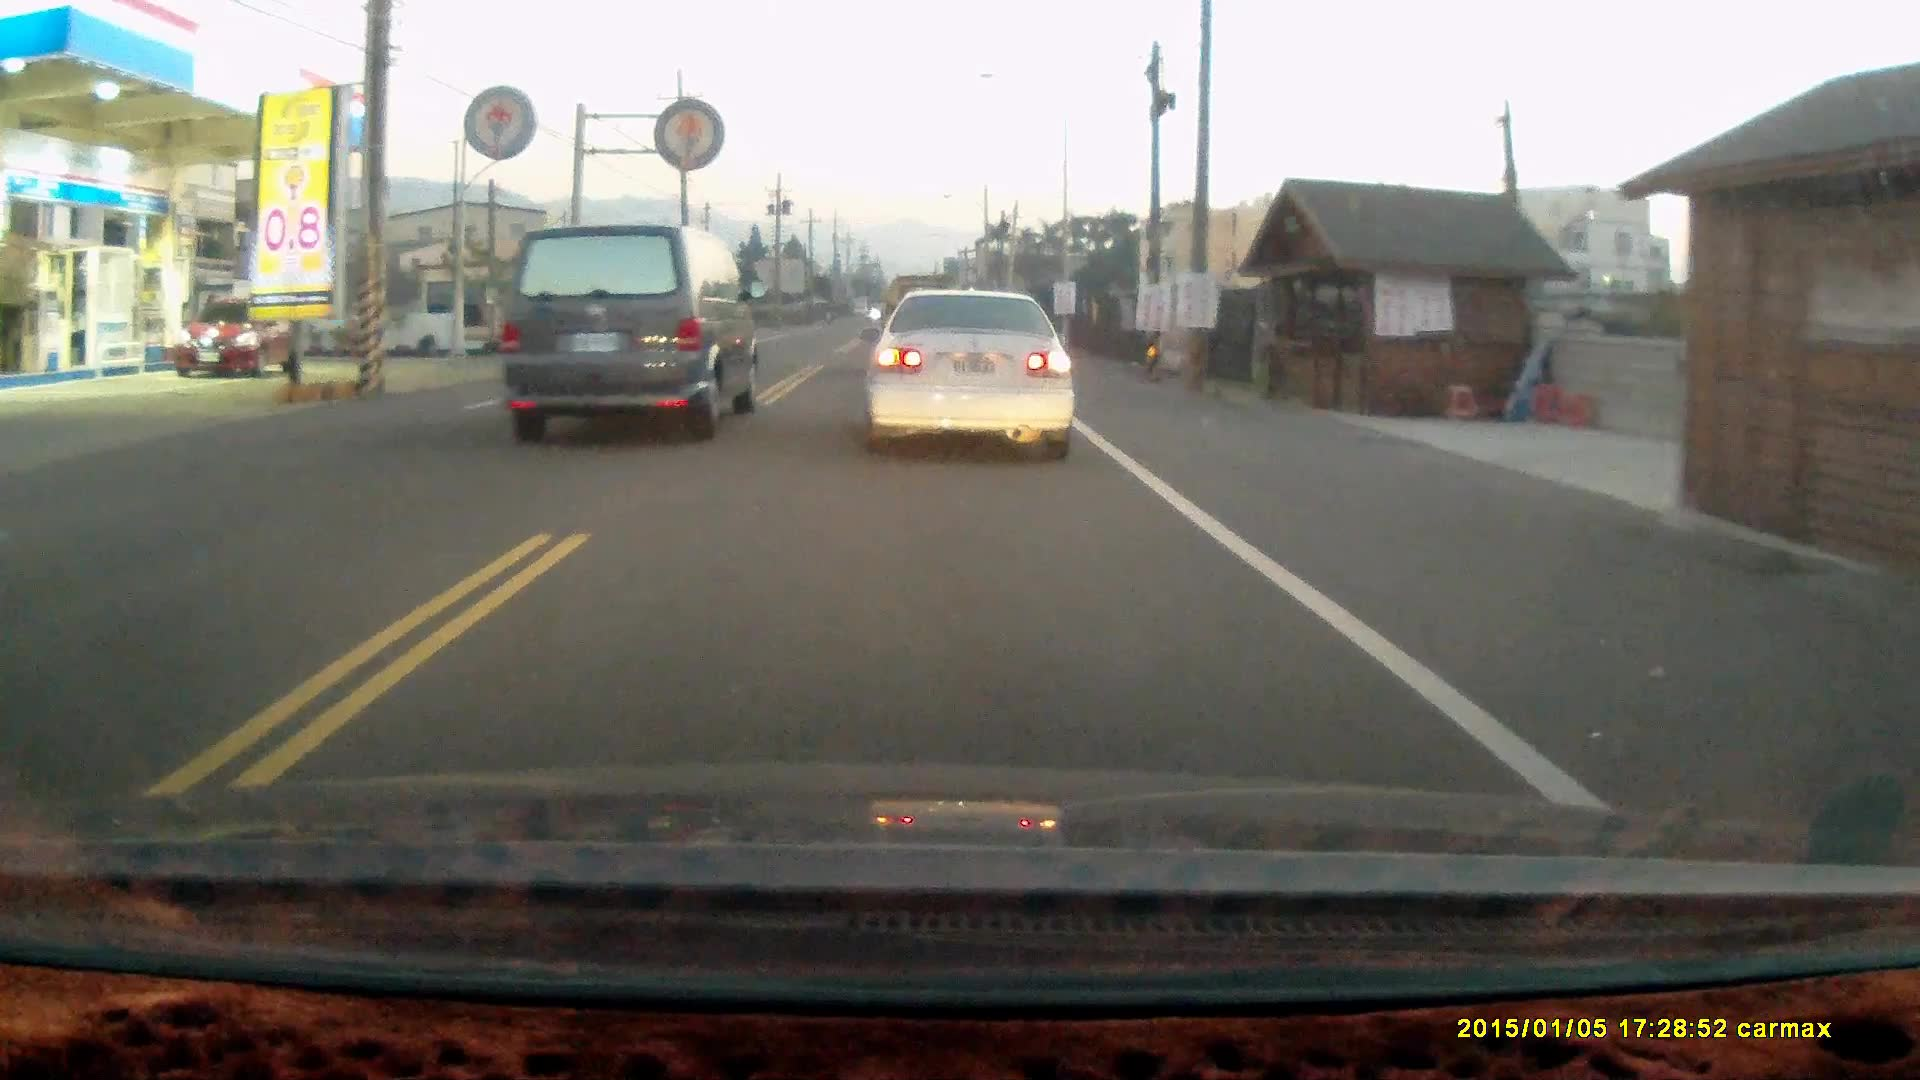vehicle: (496, 223, 758, 439), (862, 284, 1087, 463), (175, 293, 291, 381)
